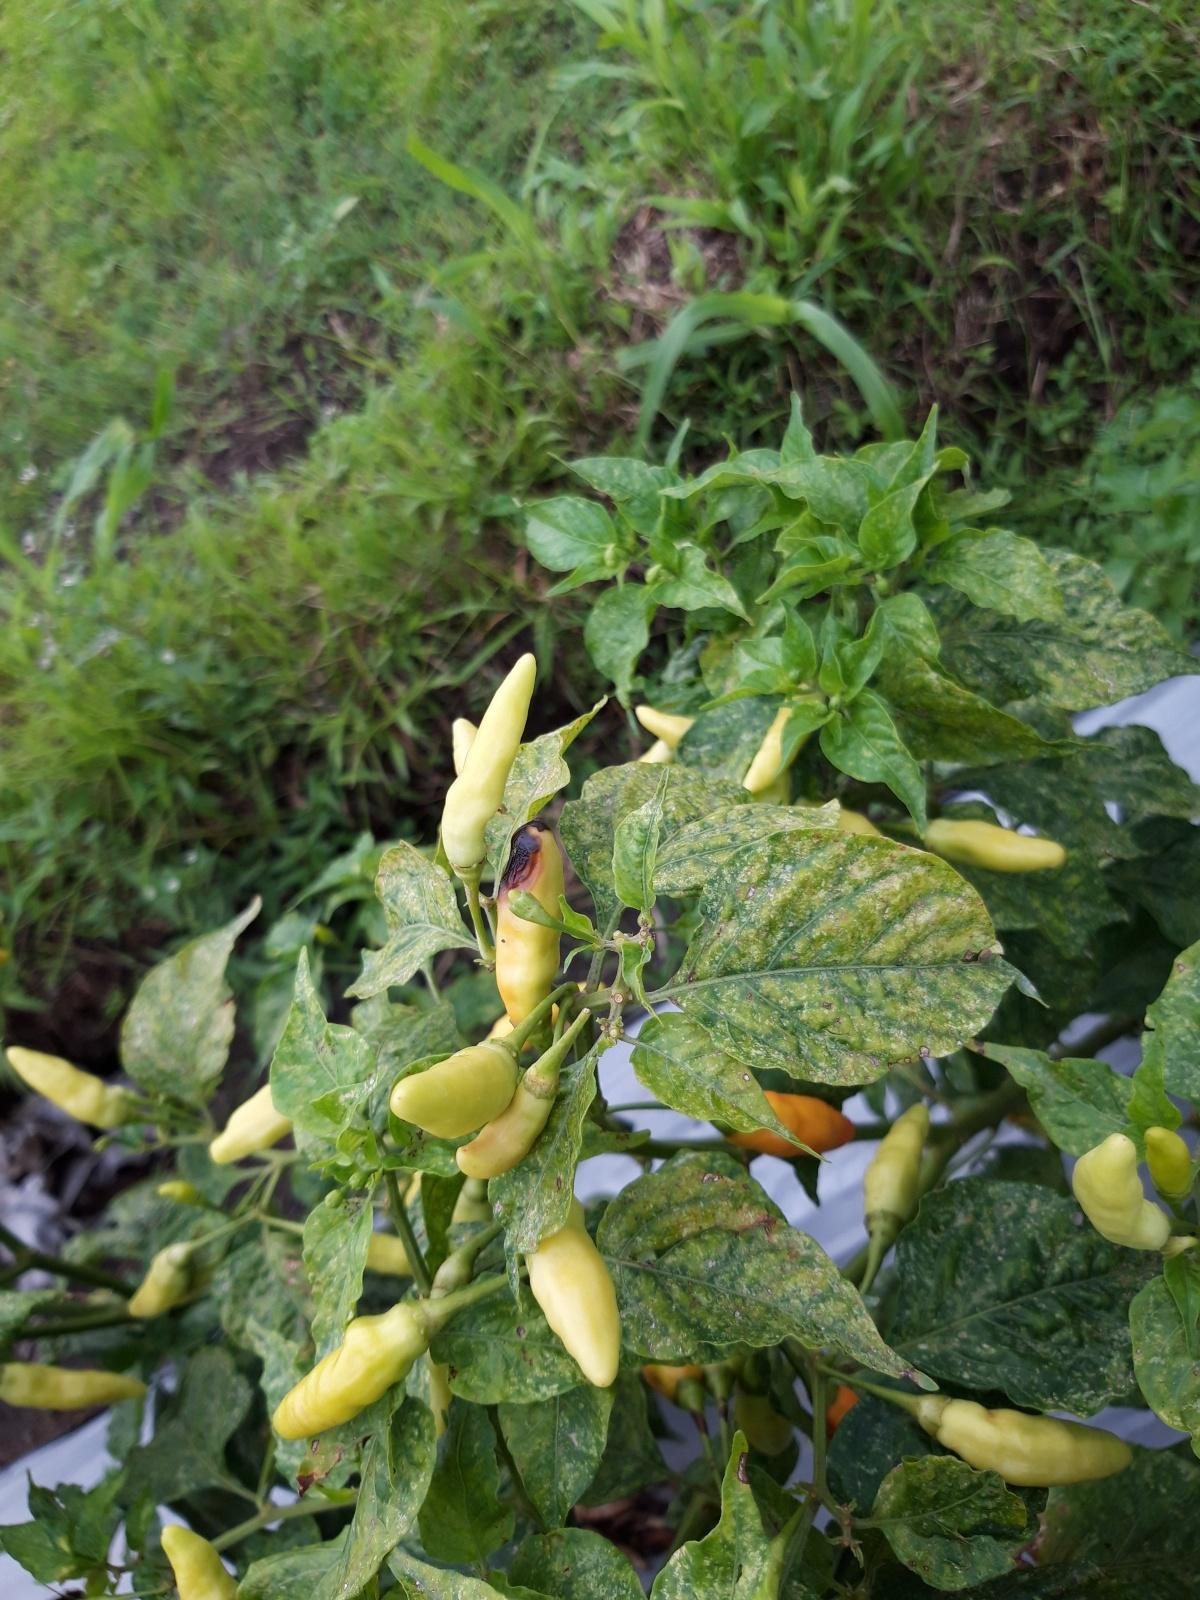cabai_normal: (274, 1300, 445, 1440), (441, 651, 534, 879), (914, 1393, 1133, 1487), (524, 1191, 621, 1391), (389, 1037, 519, 1139), (456, 1058, 558, 1180), (1074, 1133, 1172, 1250), (4, 1044, 137, 1130), (863, 1102, 932, 1237), (913, 819, 1066, 874), (211, 1077, 303, 1167), (3, 1361, 151, 1411), (129, 1243, 193, 1322), (1143, 1128, 1194, 1206)
lalat_buah: (495, 820, 566, 1041)
